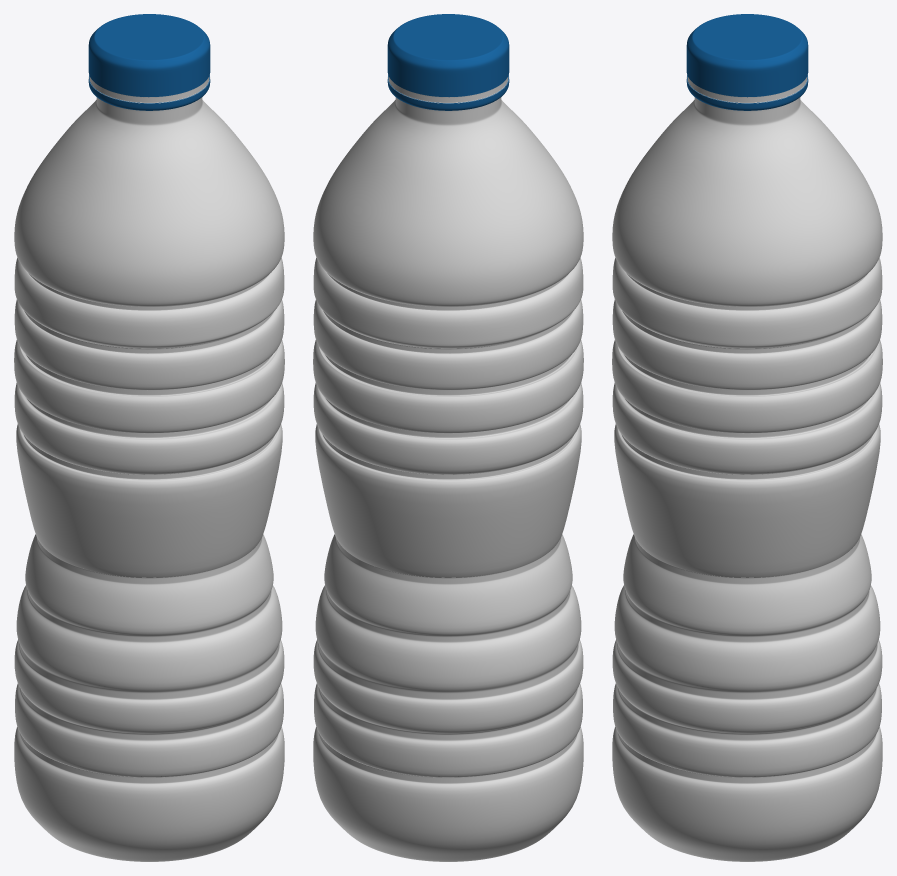
File: Water bottle.fbx
3 views of the same model, side by side, from view 1: azimuth 30°, elevation 25°; view 2: azimuth 150°, elevation 25°; view 3: azimuth 270°, elevation 25° (orthographic).
Visible parts, largest first — view 1: Plastic bottle; view 2: Plastic bottle; view 3: Plastic bottle.
Boxes of the visible parts, x1,y1,x2,y2 form: Plastic bottle: (14, 14, 284, 861); Plastic bottle: (313, 14, 583, 861); Plastic bottle: (612, 14, 882, 861).
Bounding box in the file's own units: 7.23 × 23 × 7.23.
